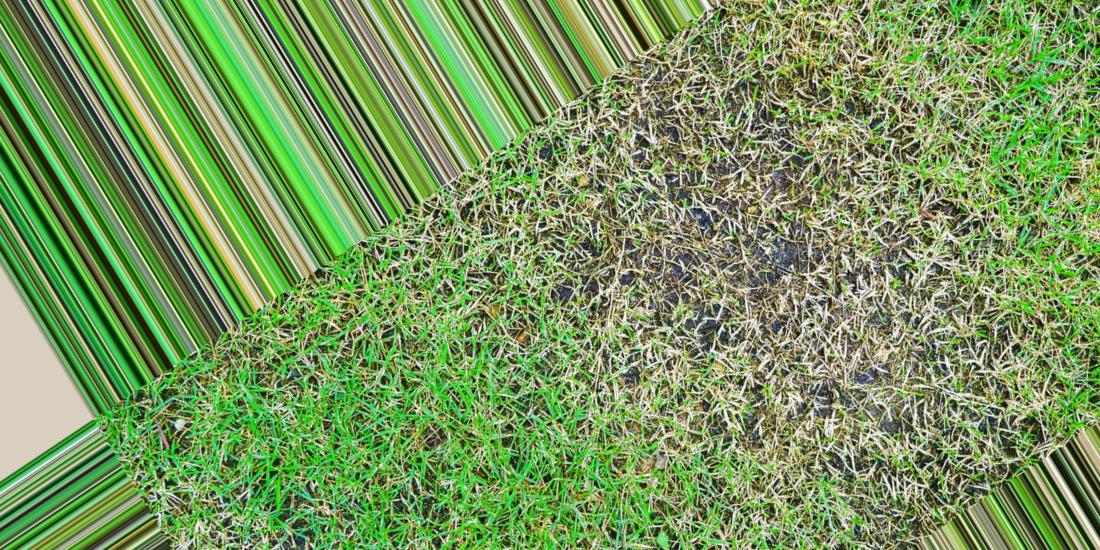patch: (621, 112, 997, 469)
